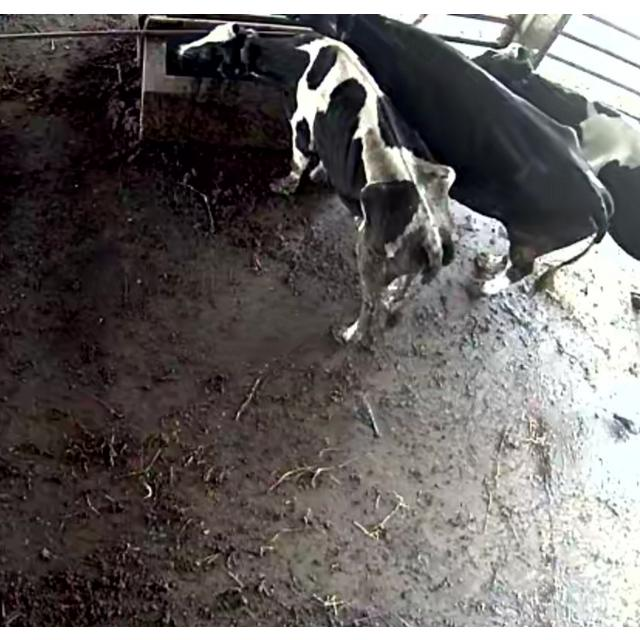drink: (180, 18, 312, 90)
